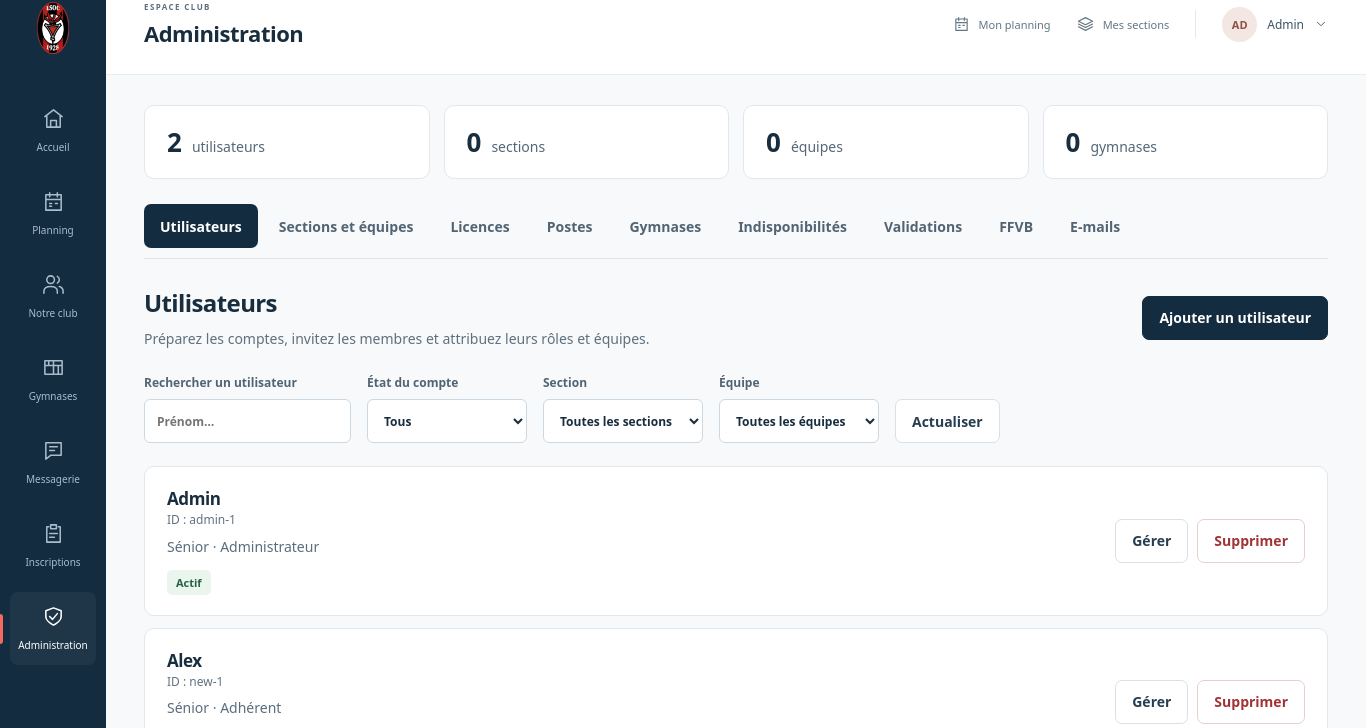
expose une invitation régénérée puis la retire lors de sa révocation
Click the button with aria-label "Gérer Alex": point(1152, 702) [1115,680,1188,724]
(page scrolled)
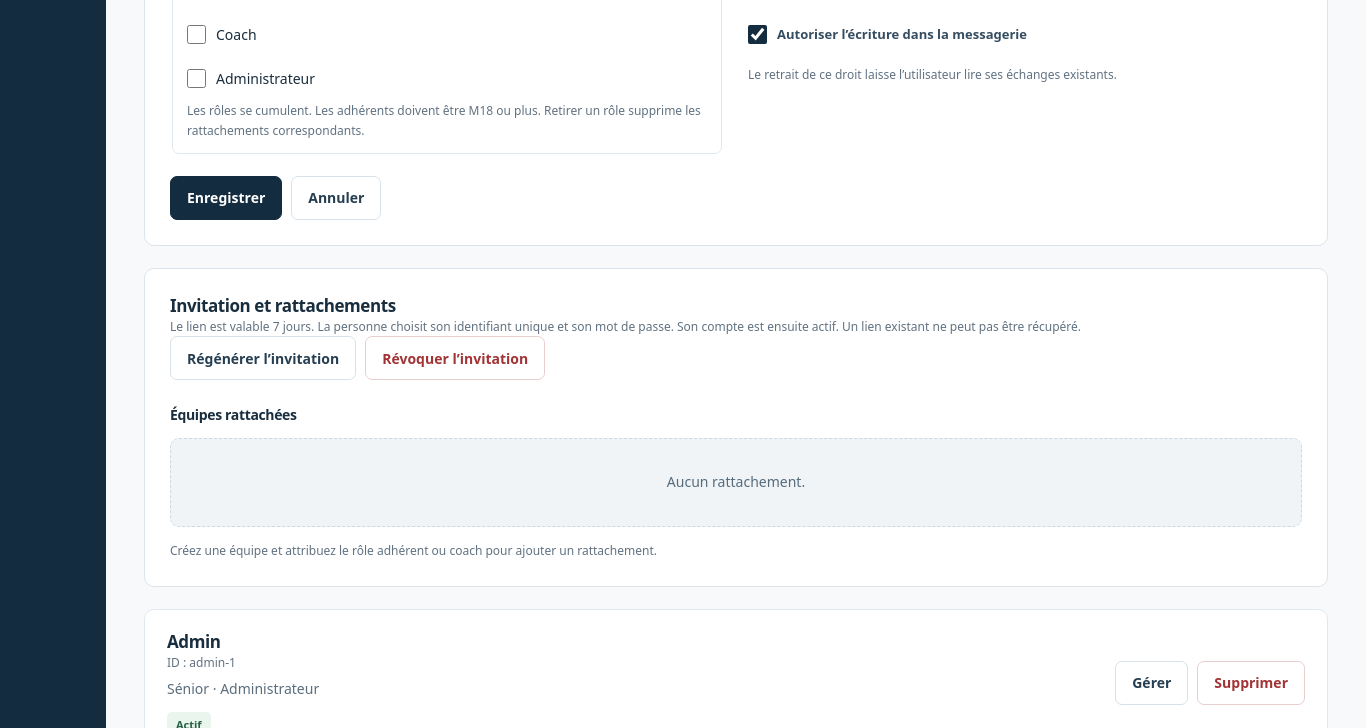
Click the button "Régénérer l’invitation": point(263, 358) [170,336,356,380]
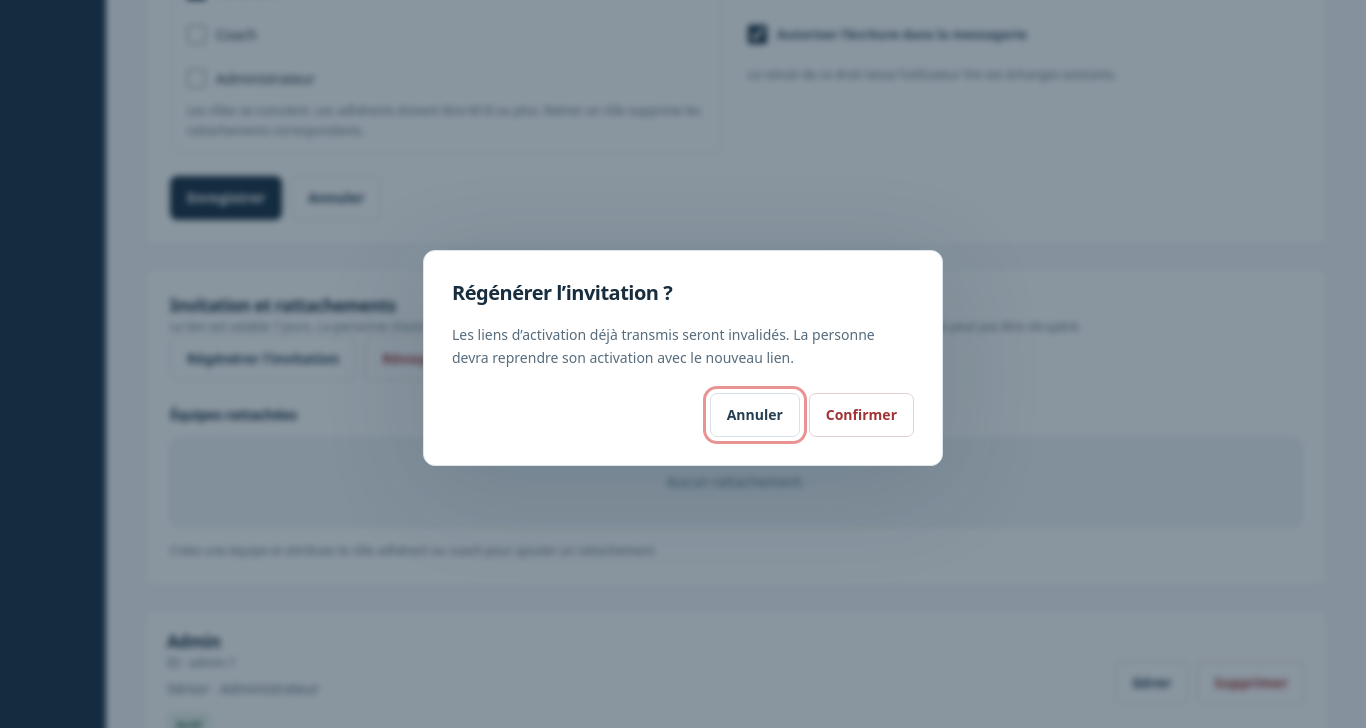
Click the button "Confirmer": point(861, 415) [809,393,914,437]
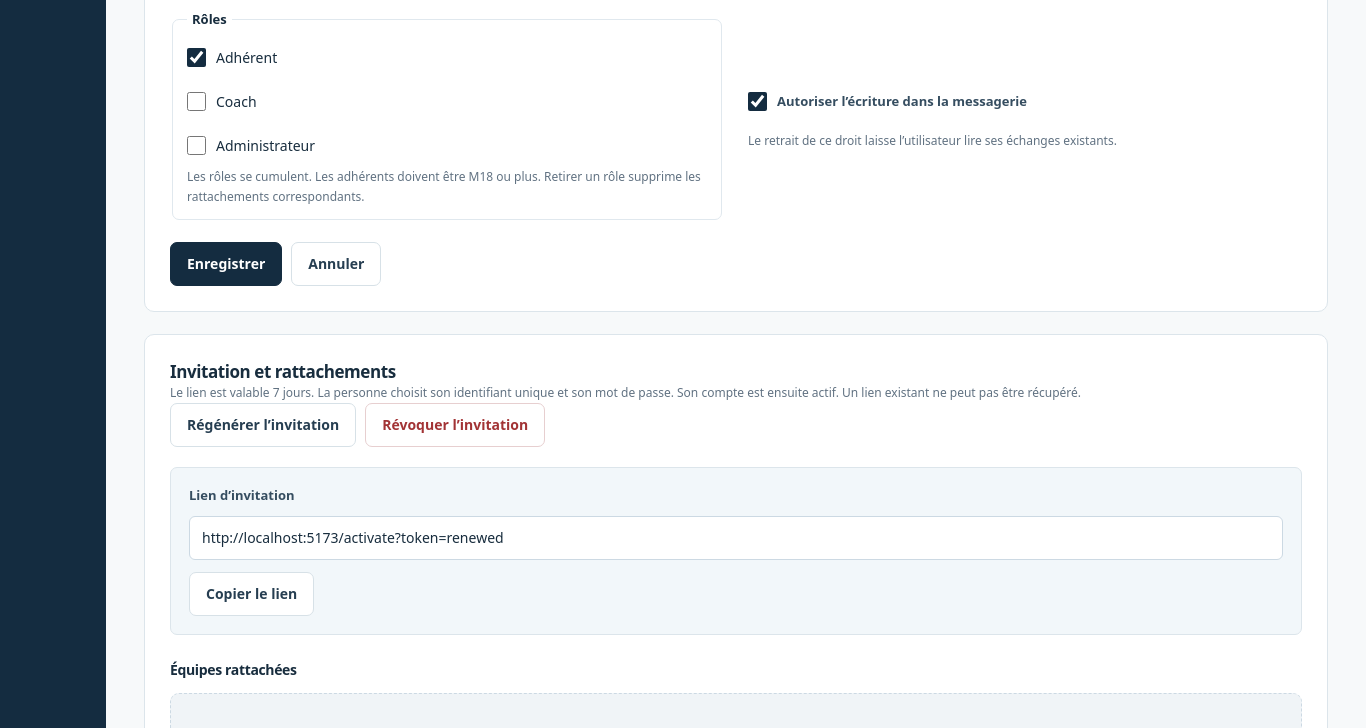
Now the field labelled "Lien d’invitation" holds "http://localhost:5173/activate?token=renewed", box [189,516,1283,560]
Click the button "Révoquer l’invitation": point(455, 425) [365,403,545,447]
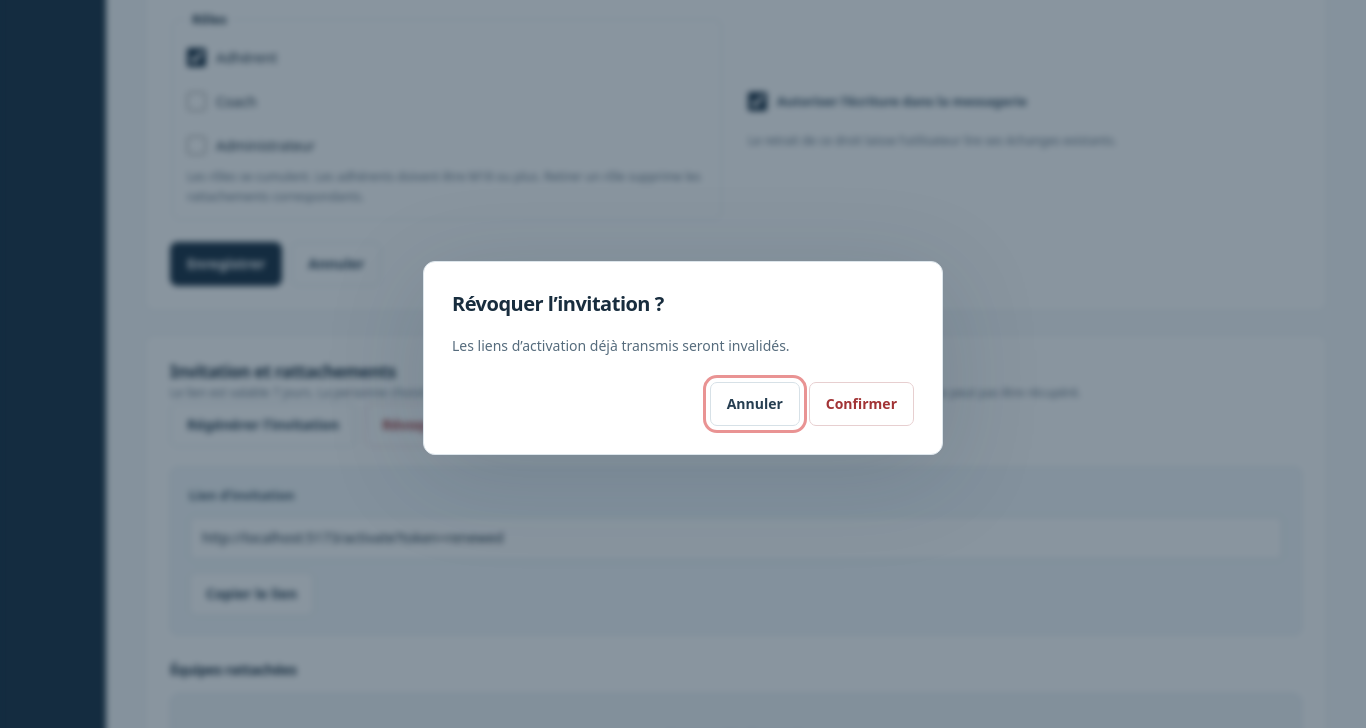
Click the button "Confirmer": point(861, 404) [809,382,914,426]
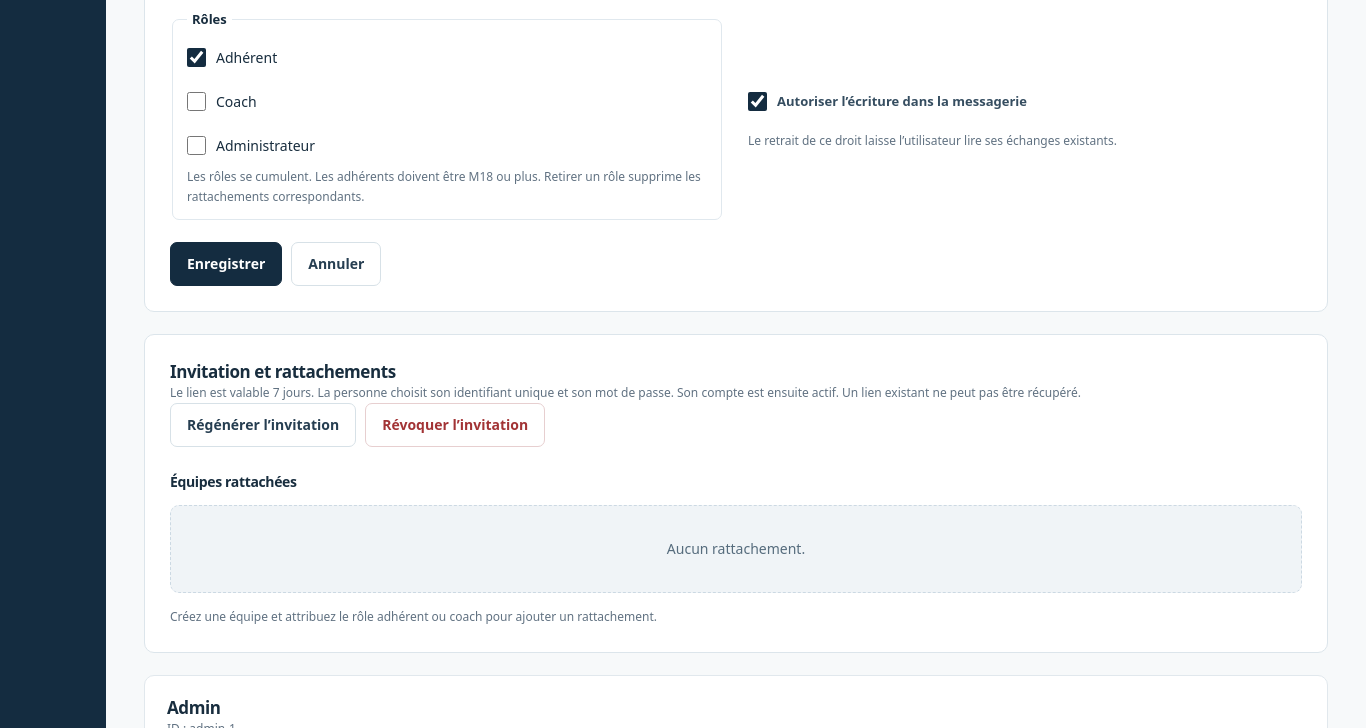
Now the label labelled "Lien d’invitation" is gone
